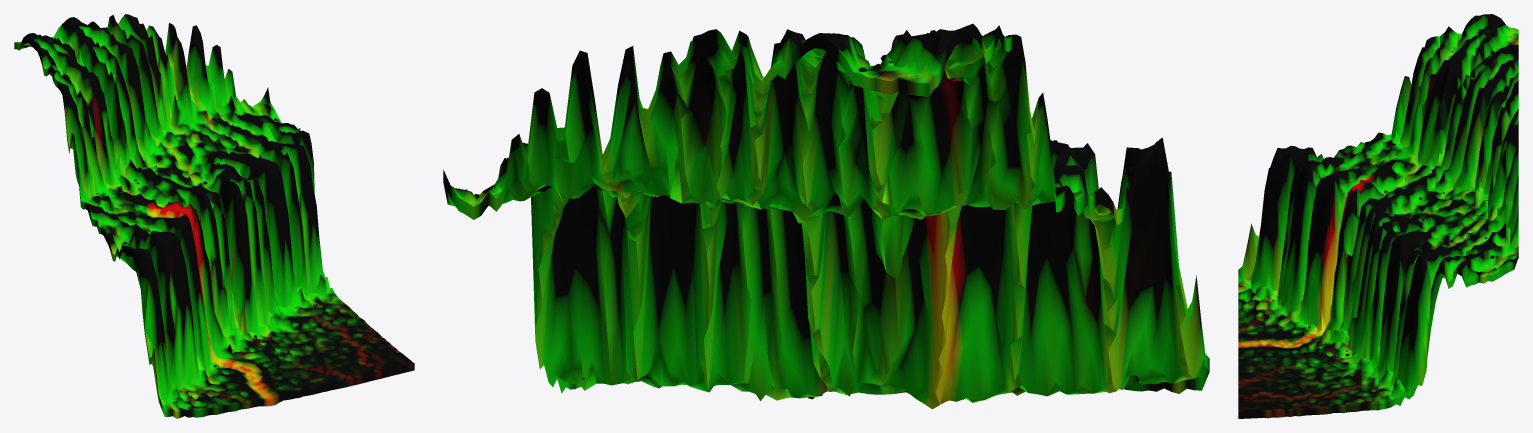
Rendered from Terrain_01_05.fbx.
3 renders of one model, left to right at view 1: azimuth 30°, elevation 25°; view 2: azimuth 150°, elevation 25°; view 3: azimuth 270°, elevation 25°, orthographic. The views are drawn at different scales.
Visible parts, largest first — view 1: Terrain_01_05_LOD0; view 2: Terrain_01_05_LOD0; view 3: Terrain_01_05_LOD0.
Boxes of the visible parts, x1,y1,x2,y2 form: Terrain_01_05_LOD0: [14, 14, 414, 418]; Terrain_01_05_LOD0: [443, 23, 1209, 409]; Terrain_01_05_LOD0: [1238, 14, 1518, 418].
Size of what is drawn, in the model's own units: 384 by 434 by 384.
